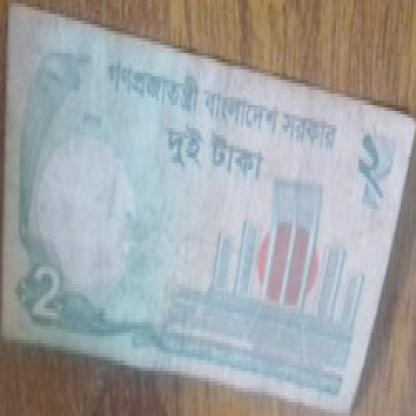two taka: (28, 253, 96, 333), (351, 132, 388, 201)
